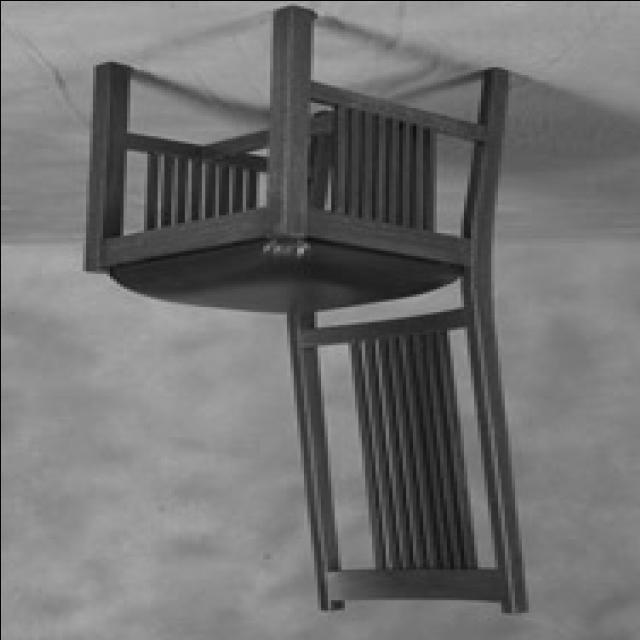chair: (82, 9, 529, 615)
